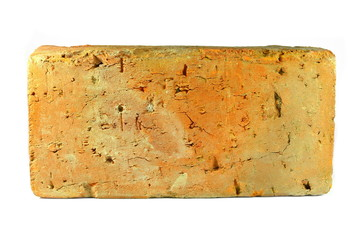brick: (29, 55, 330, 194)
